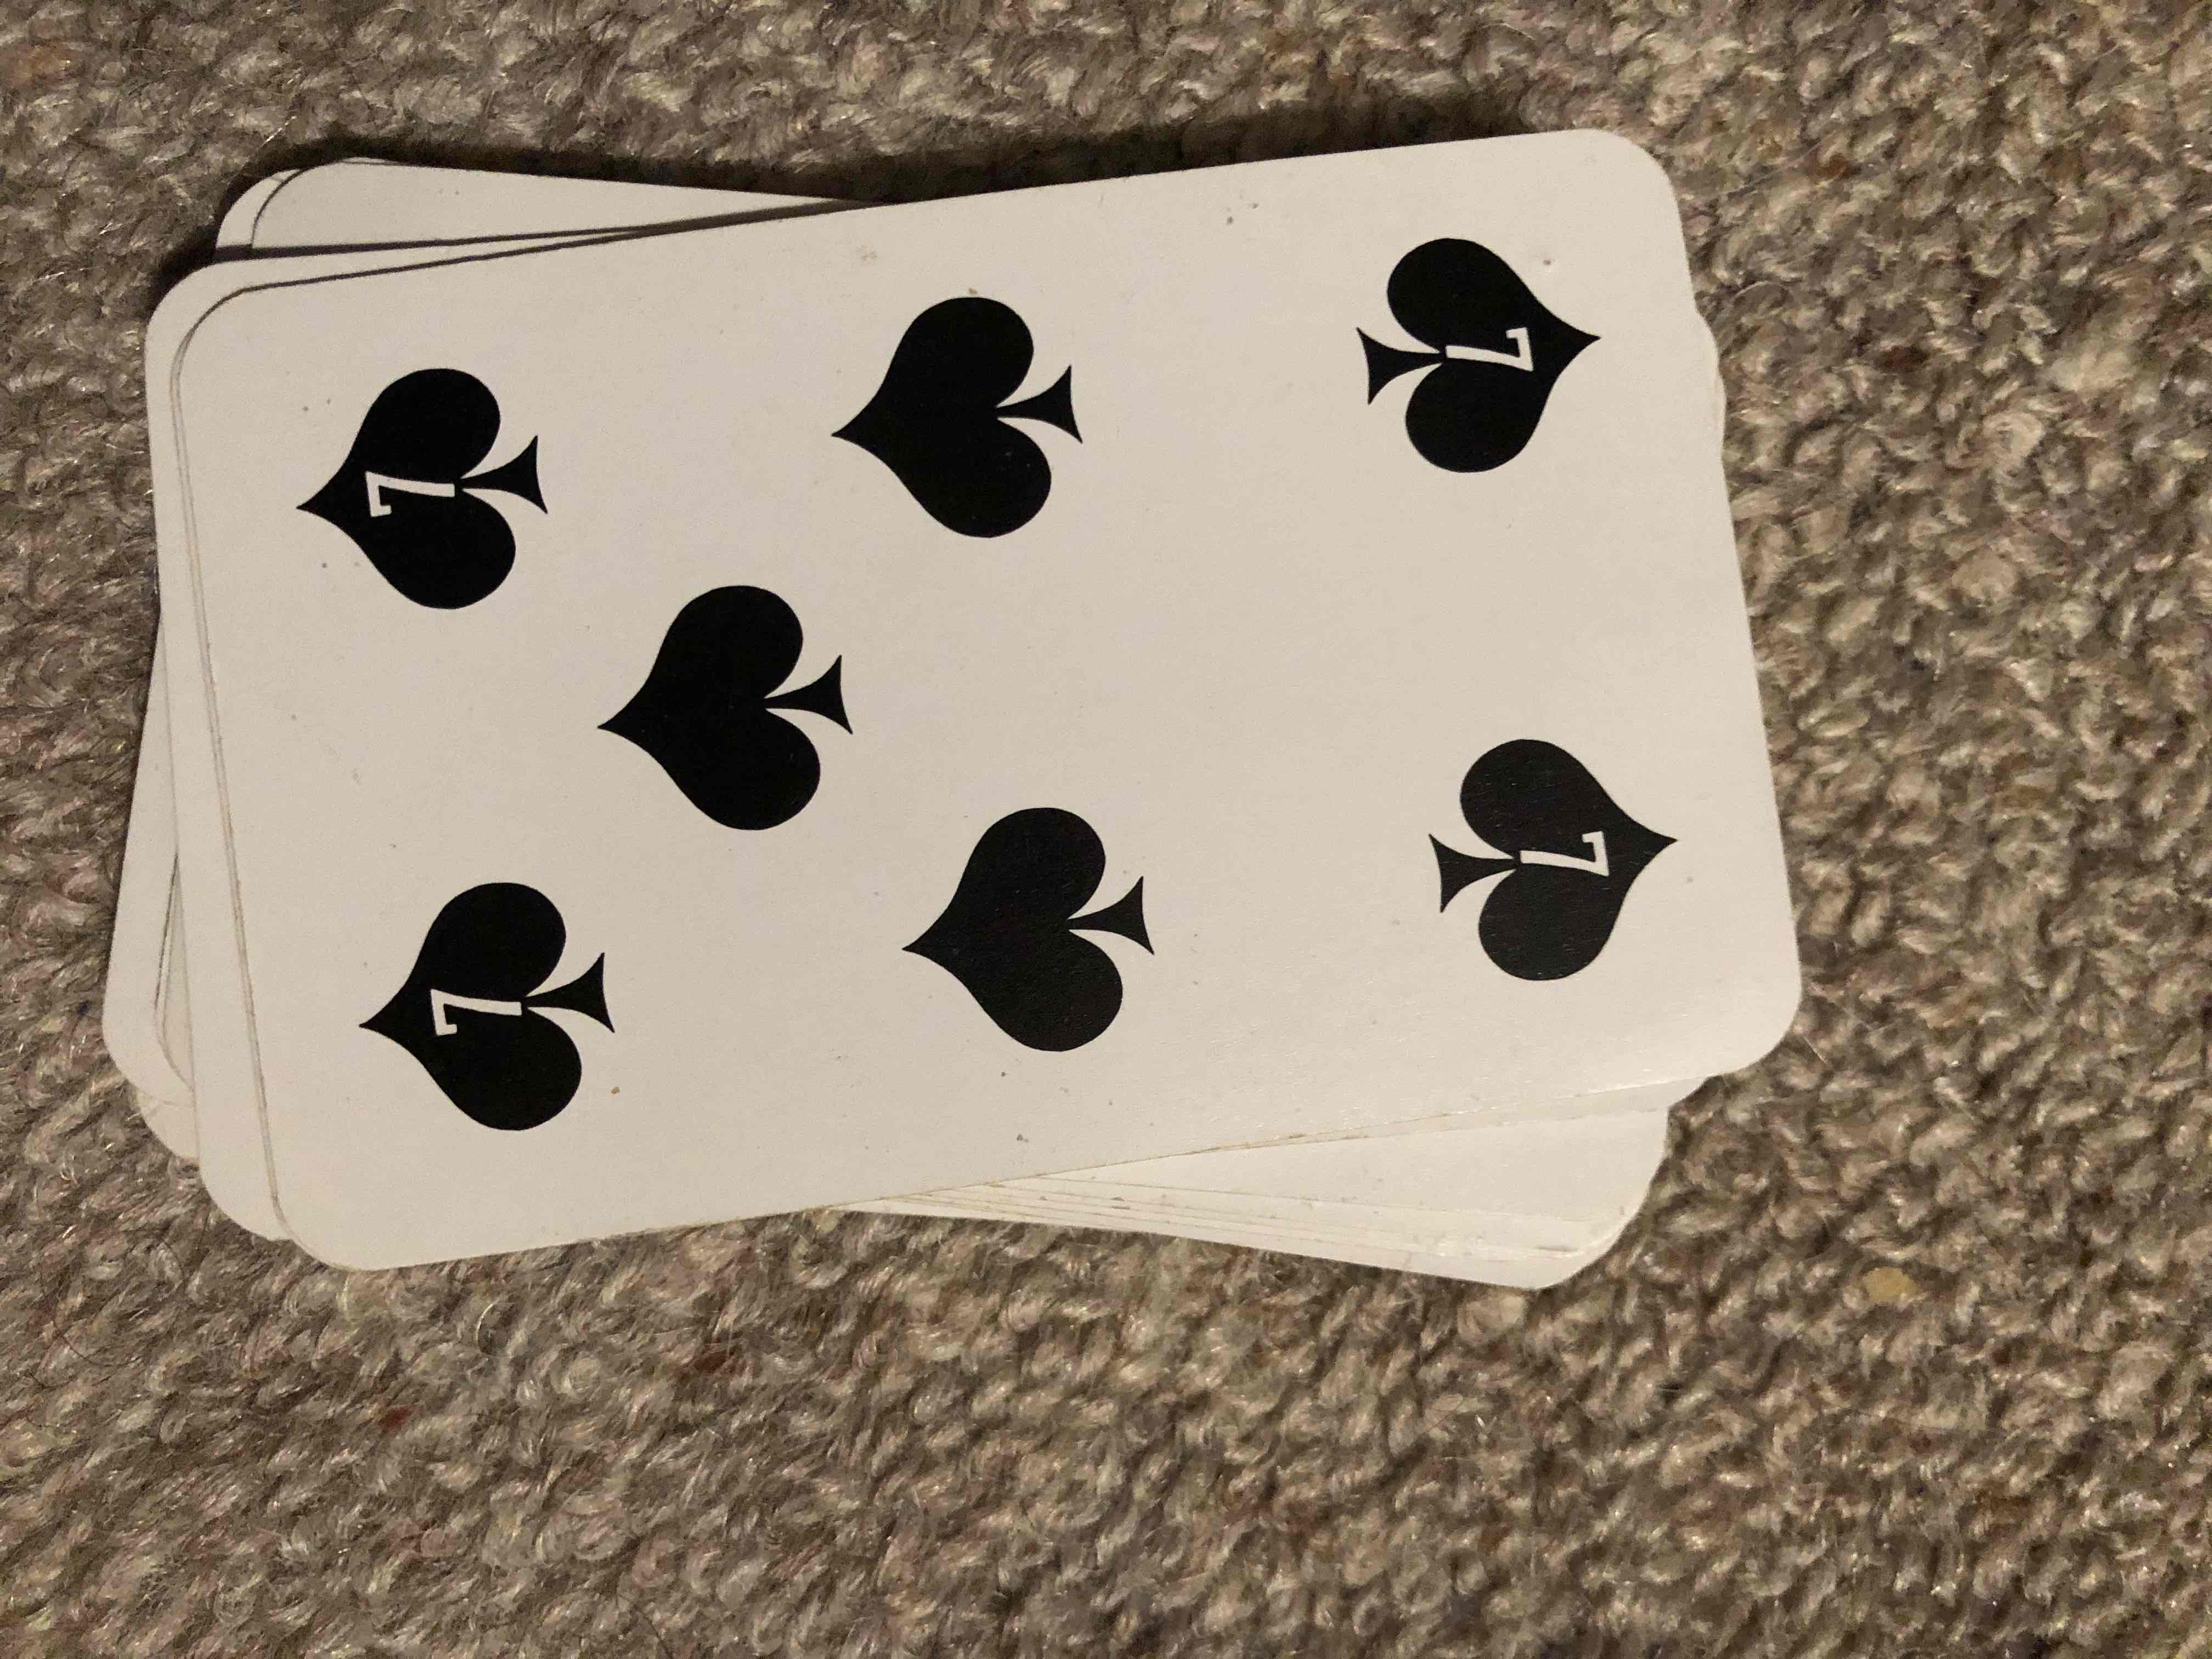spades7: (169, 254, 1752, 1145)
